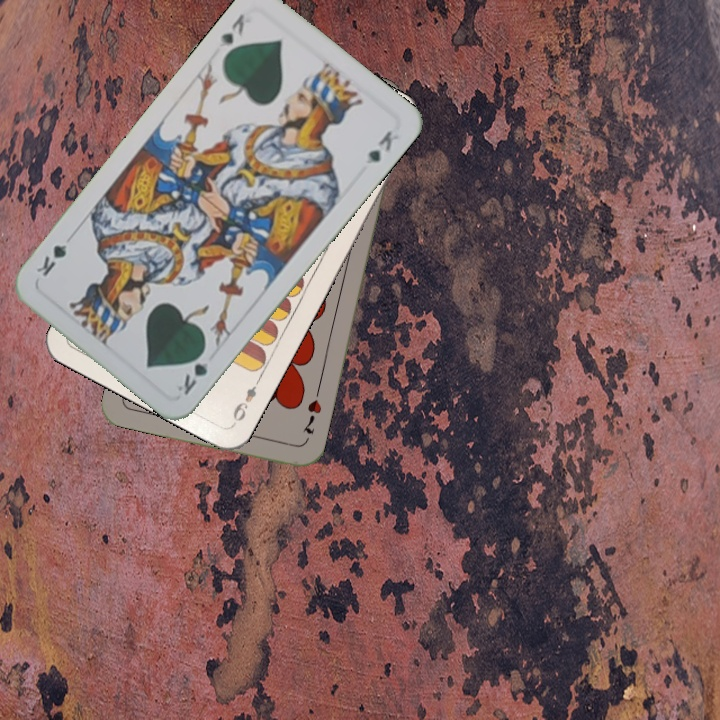E9: (229, 373, 264, 427)
GK: (172, 344, 211, 398), (214, 9, 247, 50)
H7: (299, 395, 324, 437)
